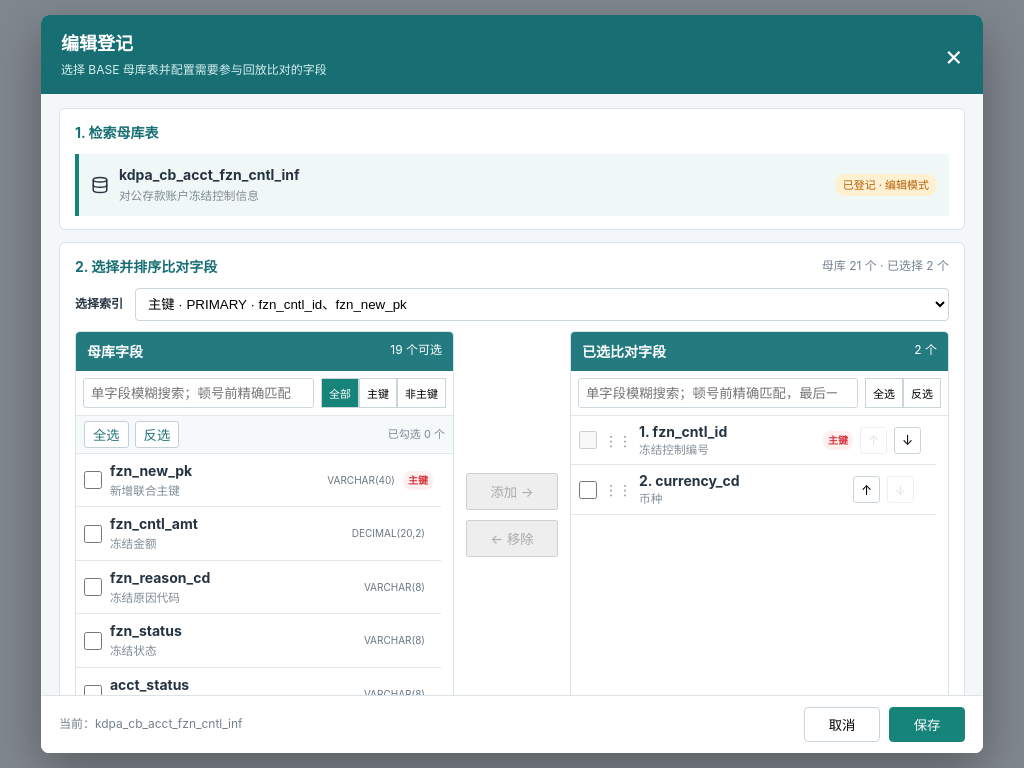
Test: ReplayDatabaseComparisonEditor › filters selected fields by name or comment
This screenshot has width=1024, height=768.
Type "币种" into the search field with test id "selected-field-search" at (718, 393), box [578,378,858,408]
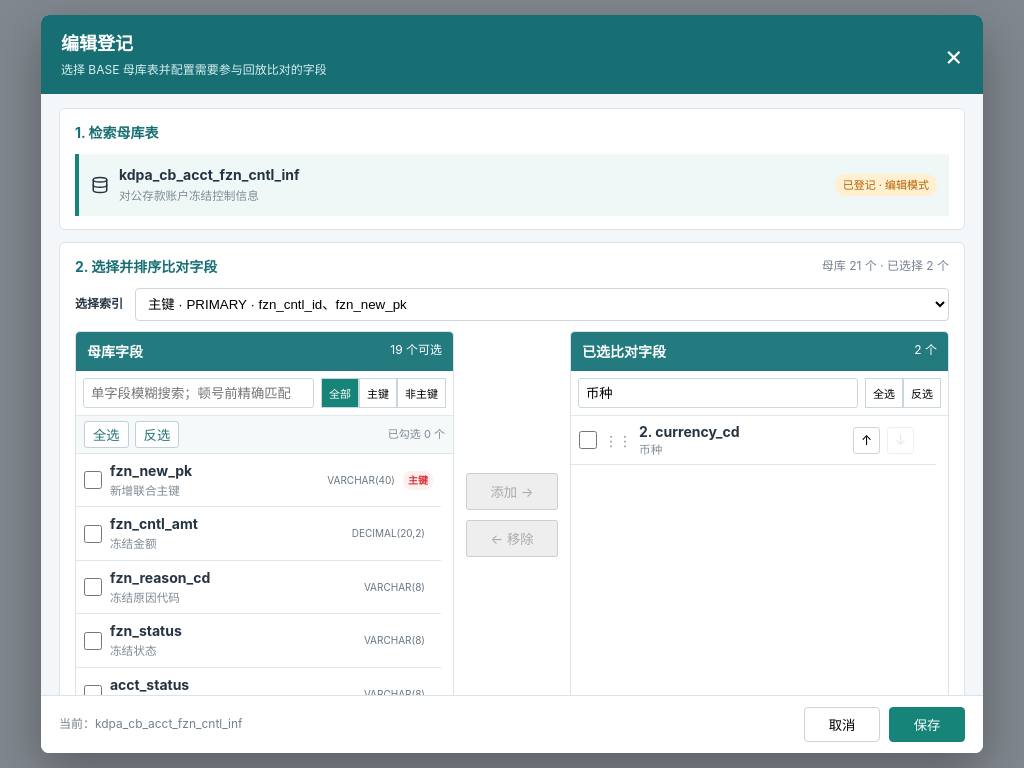
Check: the element with test id "selected-fields" shows "currency_cd", box [639,423,740,440]
Check: the number of list items with test id "selected-field-row" is 1, box [571,416,936,465]
